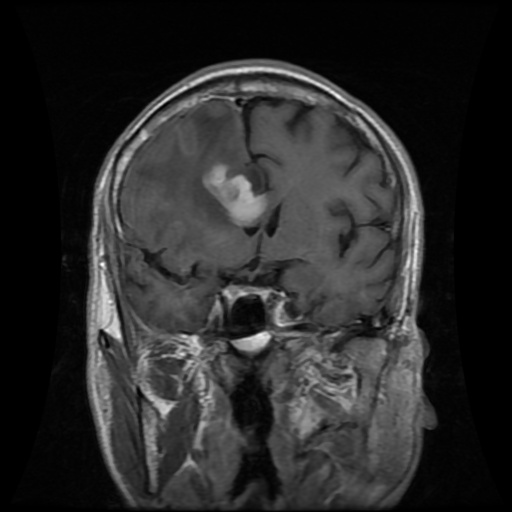glioma: (138, 106, 275, 255)
